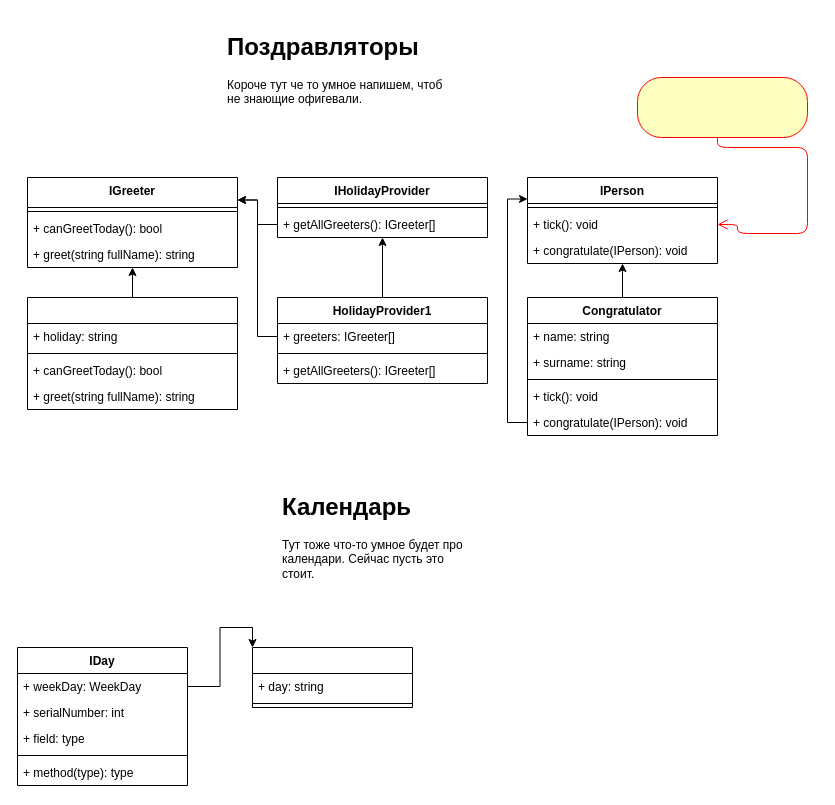
The diagram is 835 pixels wide and 805 high, and some of its shapes have lost their labels. The box of each missing label's shape, as (x1, y1, x2, y2) in pixels:
Greeter1: (26, 296, 238, 410)
WeekDay: (252, 646, 412, 708)
Дергает Провайдер, получает, список гритеров: (636, 76, 808, 138)
